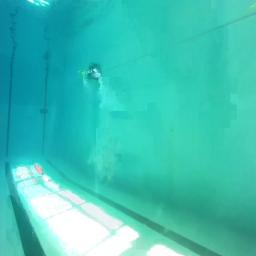Full: (87, 62, 102, 79), (40, 108, 49, 115)
